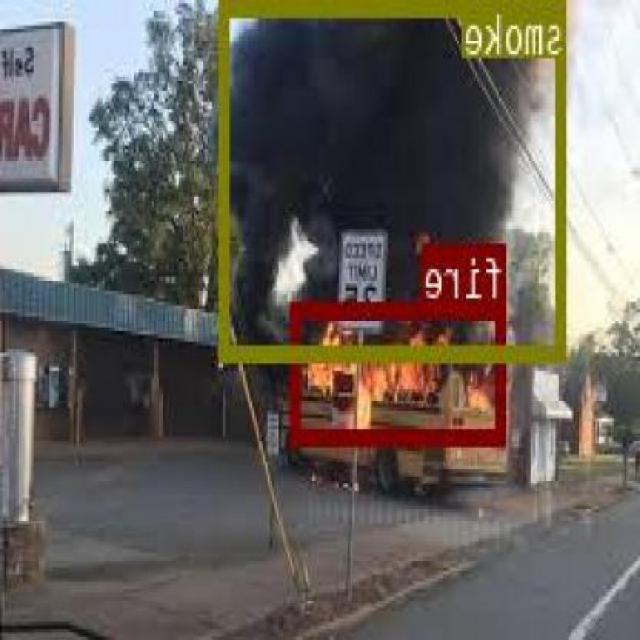Fire: (293, 300, 507, 442)
Smoke: (222, 0, 568, 357)
